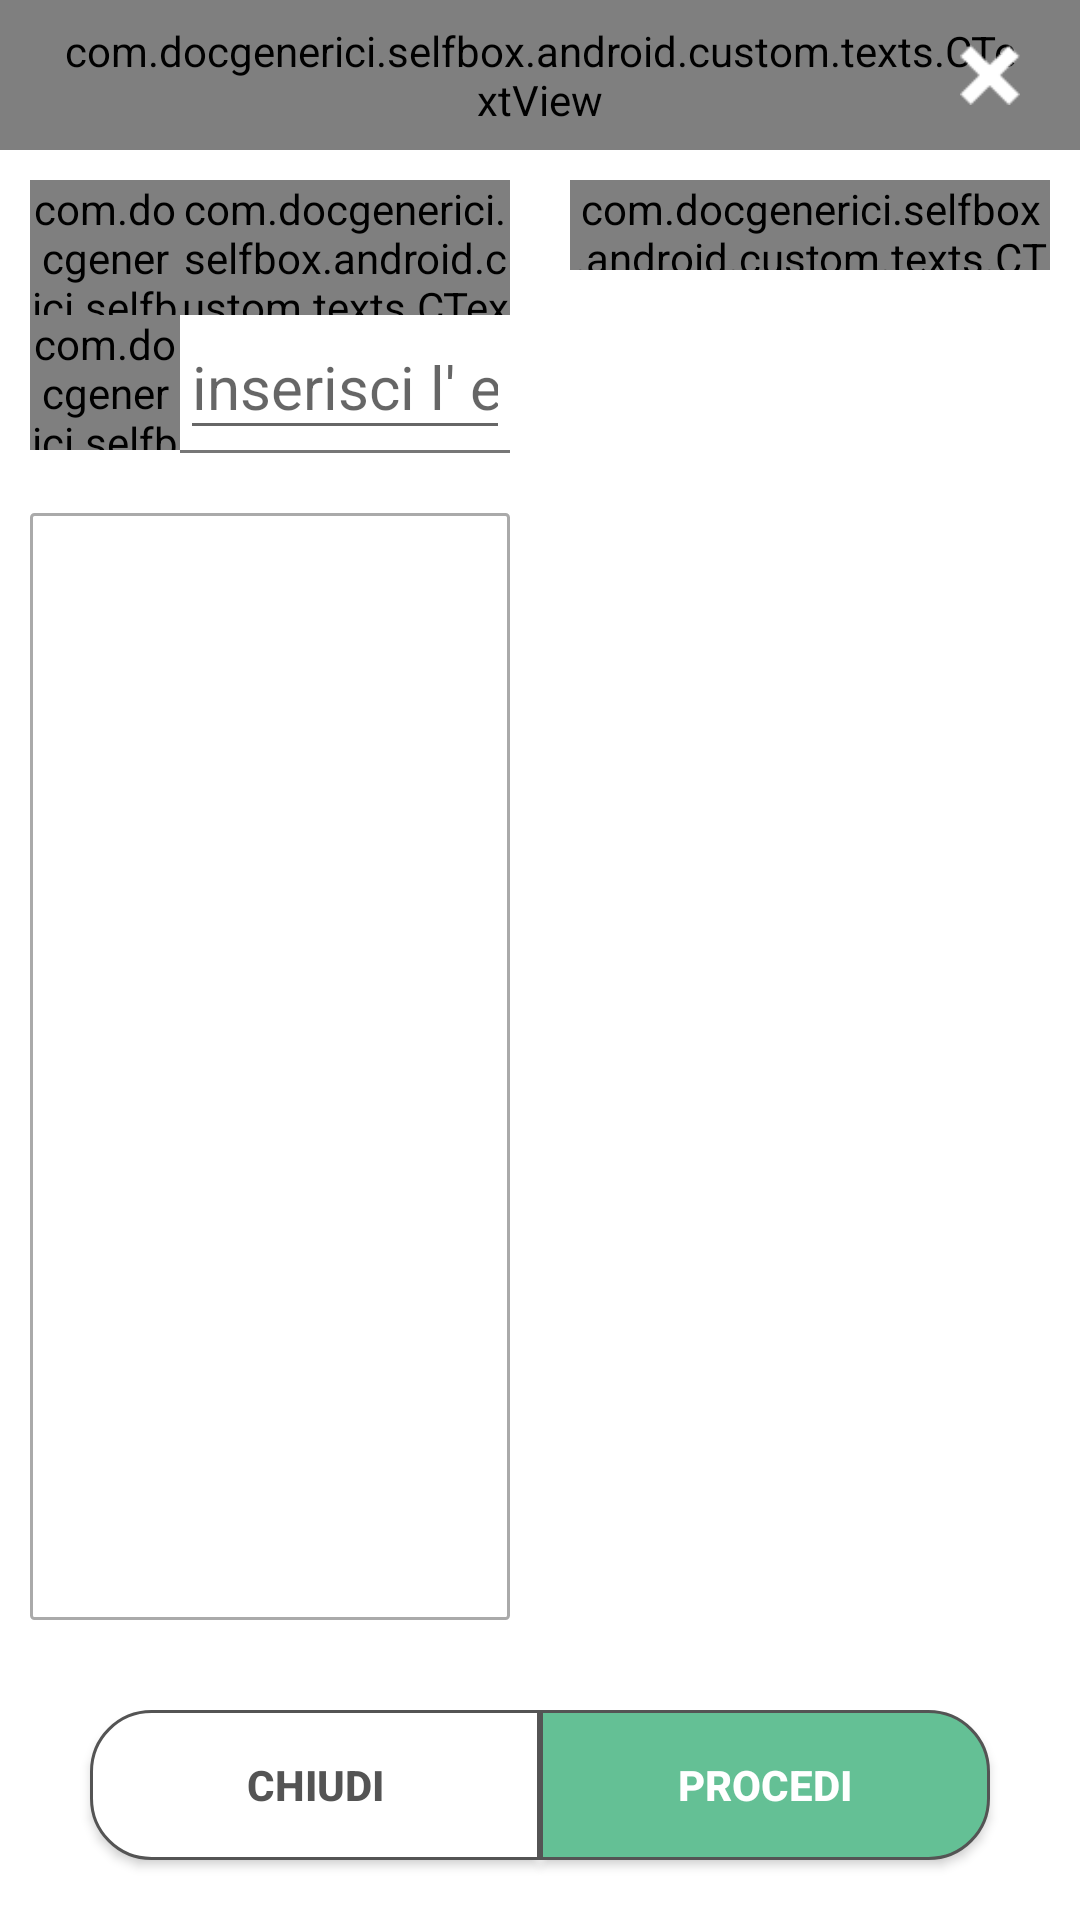

Icon bounding boxes for this 1080w x 1920h phone screenshot, format (x1, y1, x2, y2):
closex: (960, 45, 1020, 105)
